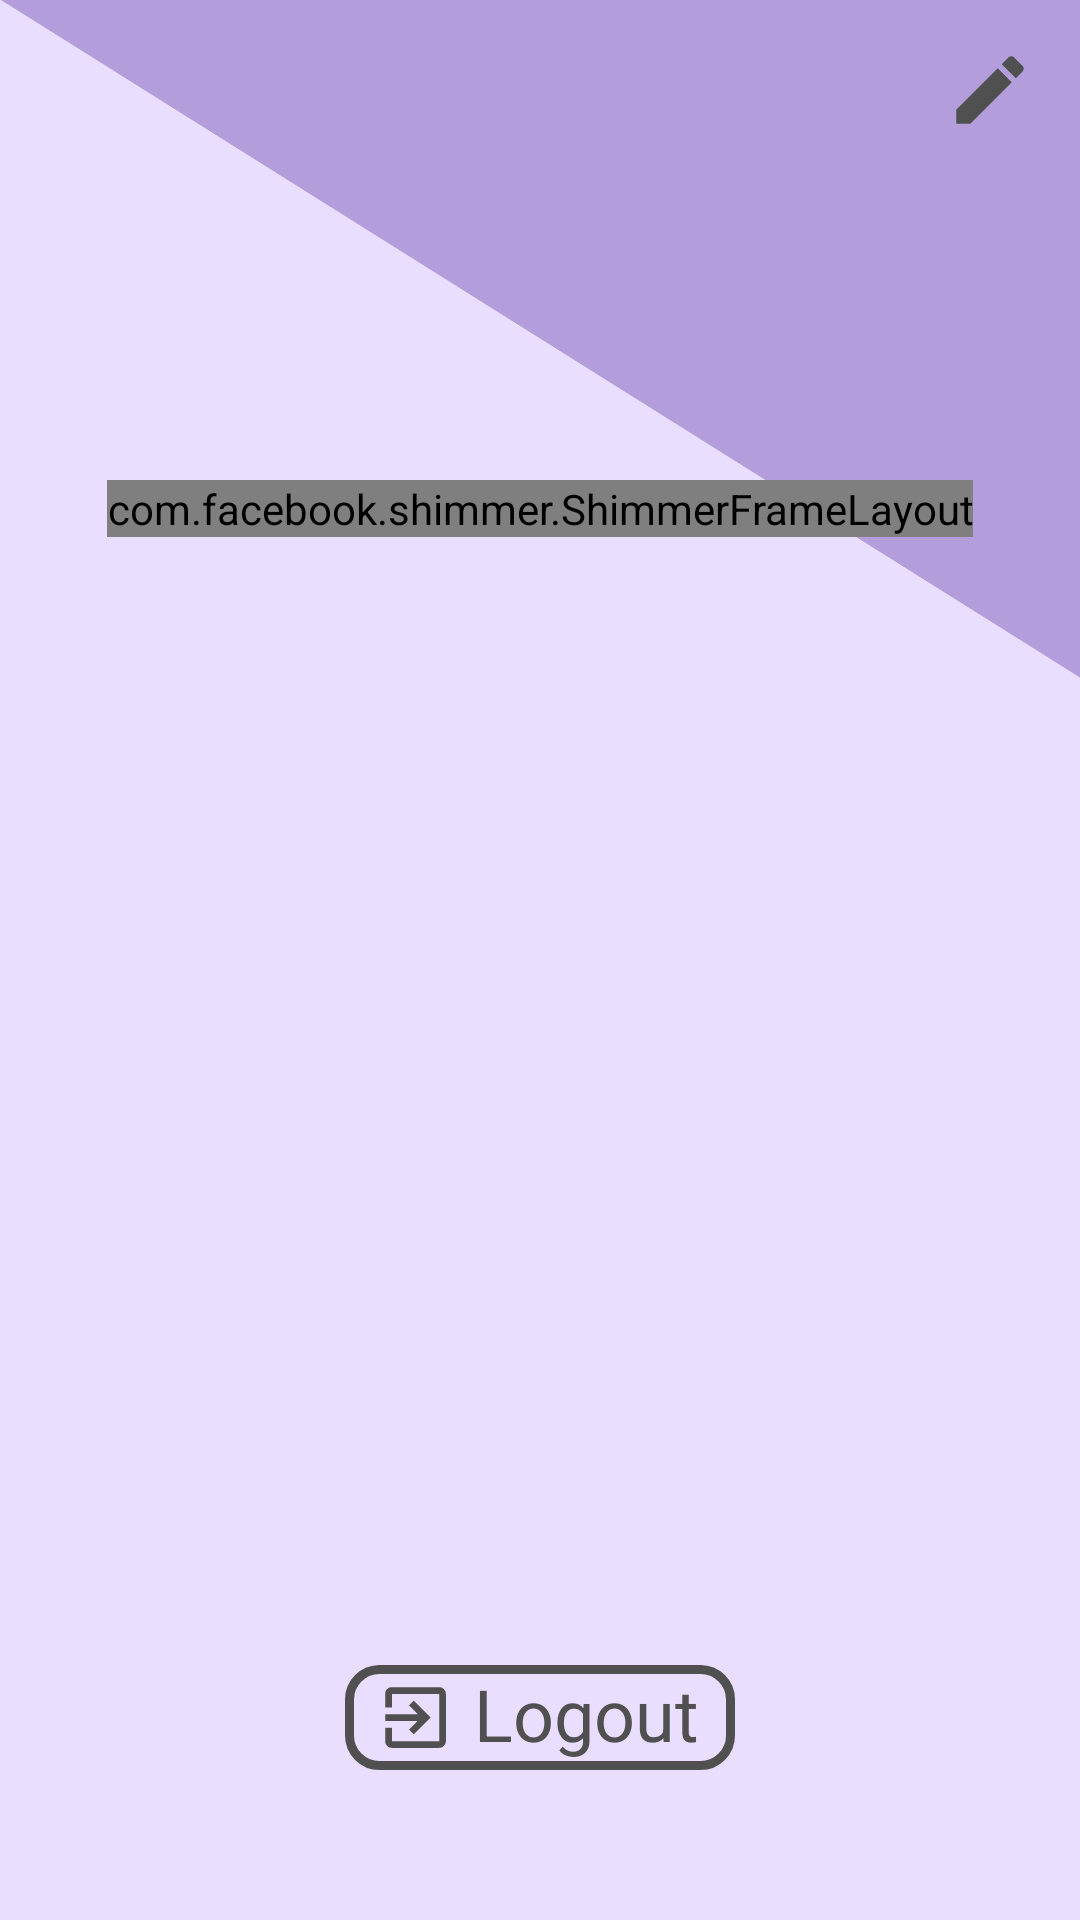

Locate icon controls on the screen. Image size 1080×1920, boxes as (x1, y1, x2, y2).
pencil: (956, 56, 1024, 124)
